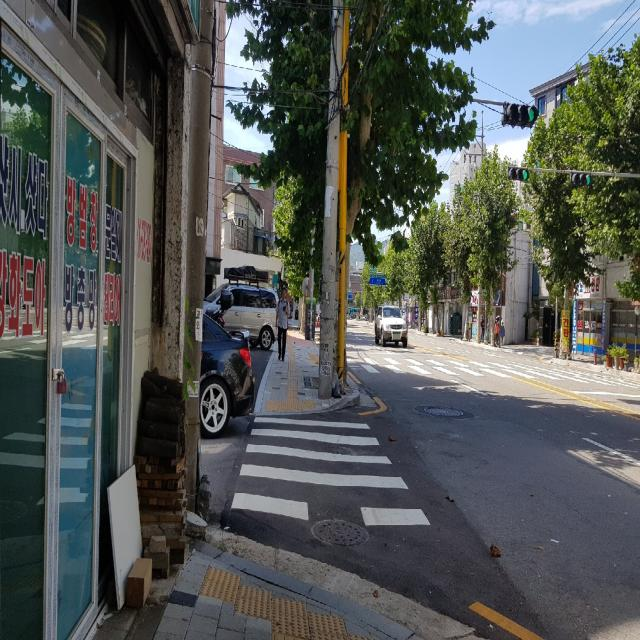횡단보도: (231, 416, 431, 526), (354, 355, 639, 388)
